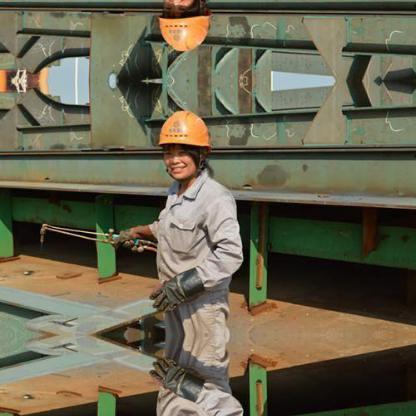helmet: (158, 108, 212, 149)
